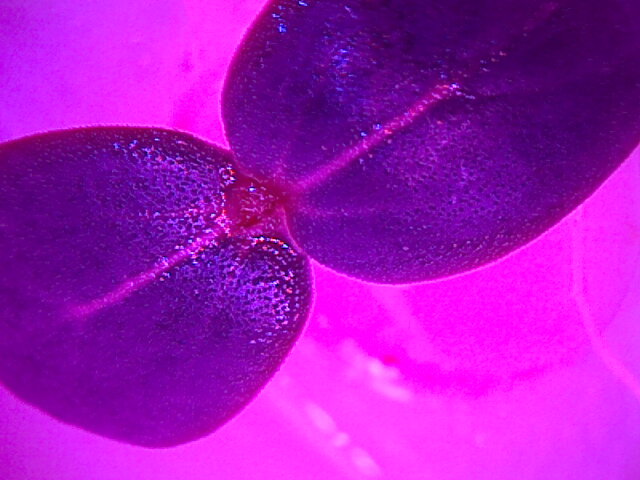seedling: (7, 1, 639, 456)
